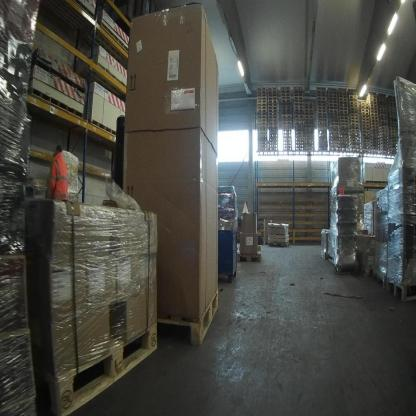pallet: (44, 318, 157, 409), (155, 289, 221, 349), (377, 93, 397, 139), (304, 102, 328, 125), (388, 96, 398, 143), (236, 250, 261, 263), (374, 267, 387, 290), (334, 263, 356, 275), (267, 240, 289, 249), (327, 252, 335, 264), (366, 92, 376, 101), (366, 95, 377, 103), (280, 108, 292, 113), (349, 119, 359, 125), (349, 113, 359, 119), (257, 131, 268, 136), (281, 121, 292, 126), (293, 120, 304, 125), (304, 120, 315, 125), (316, 96, 327, 101), (350, 142, 361, 147), (350, 132, 359, 138), (370, 131, 379, 137), (370, 128, 379, 134), (370, 125, 379, 131), (380, 138, 389, 144), (379, 114, 388, 120), (379, 111, 388, 117), (295, 140, 305, 145), (295, 137, 305, 142), (305, 124, 315, 129), (329, 124, 339, 129), (329, 121, 339, 126), (327, 87, 337, 92), (339, 115, 349, 120), (339, 106, 349, 111), (338, 100, 348, 105), (338, 97, 348, 102), (338, 94, 348, 99), (350, 145, 360, 150), (350, 139, 360, 144), (350, 136, 360, 141), (349, 129, 359, 134), (349, 126, 359, 131), (349, 123, 359, 128), (349, 116, 359, 121), (370, 135, 380, 140), (367, 99, 377, 104), (380, 141, 390, 146), (387, 107, 397, 112), (256, 135, 268, 139), (280, 118, 292, 122), (316, 100, 328, 104), (379, 108, 387, 114), (349, 105, 358, 110), (349, 101, 358, 106), (370, 122, 379, 127), (370, 119, 379, 124), (369, 104, 378, 109), (368, 101, 377, 106), (381, 150, 390, 155), (381, 147, 390, 152), (381, 144, 390, 149), (380, 135, 389, 140), (380, 132, 389, 137), (380, 129, 389, 134), (379, 126, 388, 131), (379, 123, 388, 128), (379, 120, 388, 125), (379, 117, 388, 122), (378, 102, 387, 107), (387, 105, 396, 110), (257, 147, 268, 151), (257, 141, 268, 145), (257, 138, 268, 142), (256, 125, 267, 129), (256, 122, 267, 126), (256, 112, 267, 116), (256, 109, 267, 113), (267, 112, 278, 116), (281, 125, 292, 129), (281, 115, 292, 119), (281, 112, 292, 116), (281, 105, 292, 109), (281, 102, 292, 106), (281, 99, 292, 103), (280, 87, 291, 91), (293, 112, 304, 116), (293, 108, 304, 112), (293, 102, 304, 106), (293, 99, 304, 103), (293, 96, 304, 100), (293, 93, 304, 97), (304, 118, 315, 122), (304, 115, 315, 119), (317, 118, 328, 122), (317, 115, 328, 119), (317, 112, 328, 116), (317, 109, 328, 113), (317, 106, 328, 110), (317, 103, 328, 107), (316, 93, 327, 97), (316, 90, 327, 94), (328, 115, 339, 119), (338, 110, 349, 114), (338, 103, 349, 107), (350, 148, 361, 152), (257, 106, 267, 110), (257, 103, 267, 107), (257, 97, 267, 101), (257, 94, 267, 98), (268, 144, 278, 148), (268, 138, 278, 142), (268, 122, 278, 126), (268, 119, 278, 123), (268, 115, 278, 119), (268, 106, 278, 110), (281, 96, 291, 100), (281, 93, 291, 97), (281, 90, 291, 94), (294, 124, 304, 128), (293, 90, 303, 94), (304, 111, 314, 115), (304, 108, 314, 112), (316, 87, 326, 91), (329, 118, 339, 122), (328, 112, 338, 116), (328, 109, 338, 113), (328, 106, 338, 110), (328, 103, 338, 107), (328, 100, 338, 104), (328, 94, 338, 98), (328, 91, 338, 95), (339, 122, 349, 126), (339, 119, 349, 123), (339, 113, 349, 117), (338, 92, 348, 96), (338, 88, 348, 92), (349, 111, 359, 115), (348, 89, 356, 94), (362, 139, 370, 144), (362, 133, 370, 138), (361, 117, 369, 122), (361, 114, 369, 119), (370, 116, 378, 121), (370, 113, 378, 118), (370, 110, 378, 115), (370, 107, 378, 112), (378, 105, 386, 110), (378, 96, 386, 101), (390, 121, 398, 126), (269, 147, 278, 151), (269, 141, 278, 145), (269, 134, 278, 138), (269, 129, 278, 133), (269, 125, 278, 129), (283, 147, 292, 151), (283, 144, 292, 148), (283, 137, 292, 141), (283, 134, 292, 138), (349, 107, 358, 111), (349, 99, 358, 103), (349, 95, 358, 99), (361, 121, 370, 125), (378, 99, 387, 103), (391, 132, 398, 137), (257, 144, 268, 147), (256, 119, 267, 122), (256, 116, 267, 119), (267, 103, 278, 106), (267, 94, 278, 97), (267, 91, 278, 94), (294, 132, 305, 135), (293, 118, 304, 121), (293, 115, 304, 118), (293, 106, 304, 109), (362, 146, 370, 150), (362, 143, 370, 147), (362, 137, 370, 141), (362, 130, 370, 134), (361, 111, 369, 115), (361, 108, 369, 112), (361, 106, 369, 110), (389, 110, 397, 114), (257, 129, 267, 132), (257, 100, 267, 103), (257, 91, 267, 94), (257, 88, 267, 91), (268, 110, 278, 113), (268, 100, 278, 103), (268, 97, 278, 100), (268, 88, 278, 91), (295, 147, 305, 150), (295, 144, 305, 147), (295, 135, 305, 138), (293, 87, 303, 90), (304, 106, 314, 109), (328, 97, 338, 100), (362, 127, 369, 131), (361, 102, 368, 106), (391, 130, 398, 134), (391, 127, 398, 131), (391, 125, 398, 129), (390, 119, 397, 123), (390, 116, 397, 120), (390, 113, 397, 117), (389, 102, 396, 106), (389, 99, 396, 103), (269, 132, 278, 135), (283, 141, 292, 144), (295, 129, 304, 132), (283, 131, 291, 134), (283, 128, 291, 131), (349, 93, 357, 96), (361, 124, 369, 127), (392, 143, 397, 146)
